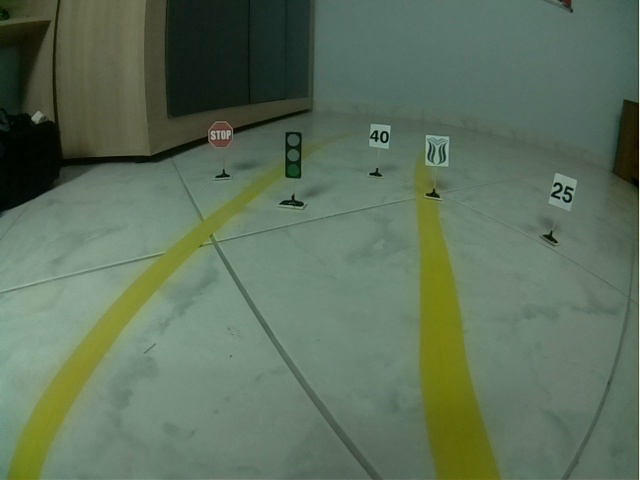Green Traffic Light: (284, 131, 302, 179)
Speed Limit 25: (549, 171, 577, 213)
Speed Limit 40: (369, 123, 392, 150)
Stop: (207, 121, 234, 149)
Subu: (426, 134, 450, 168)
